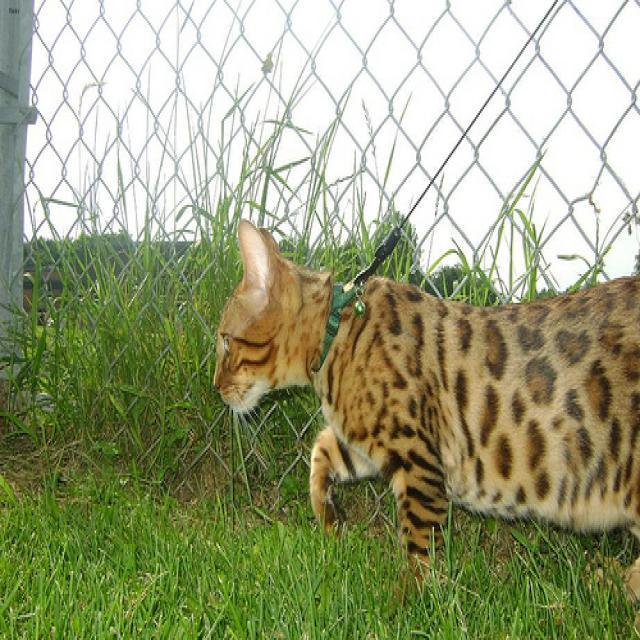Bengal: (204, 211, 342, 423)
